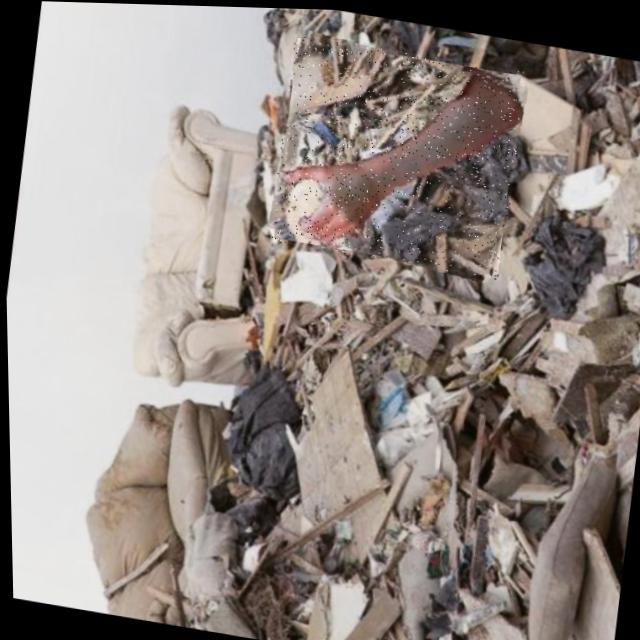Person in Rubble: (265, 30, 529, 277)
